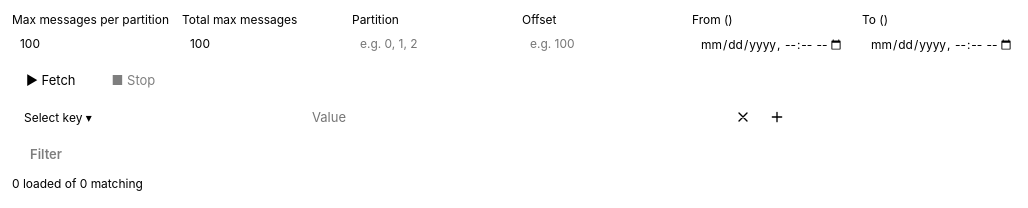
Test: DataTab › reports how long the fetch took next to the loaded/matching count
Click the button "▶ Fetch".
click(51, 80)  # box [12,66,90,94]
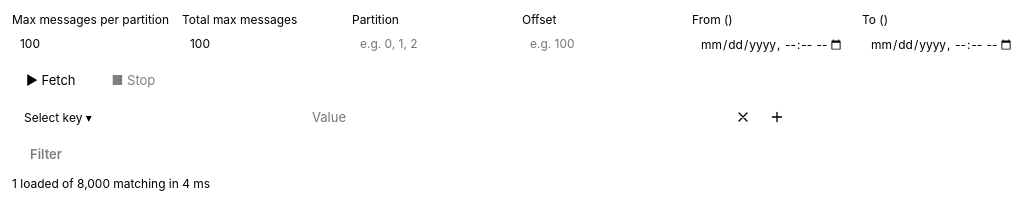
Now the text with class "data-tab-total-count" reads "1 loaded of 8,000 matching in 4 ms", box [12,176,210,191]
